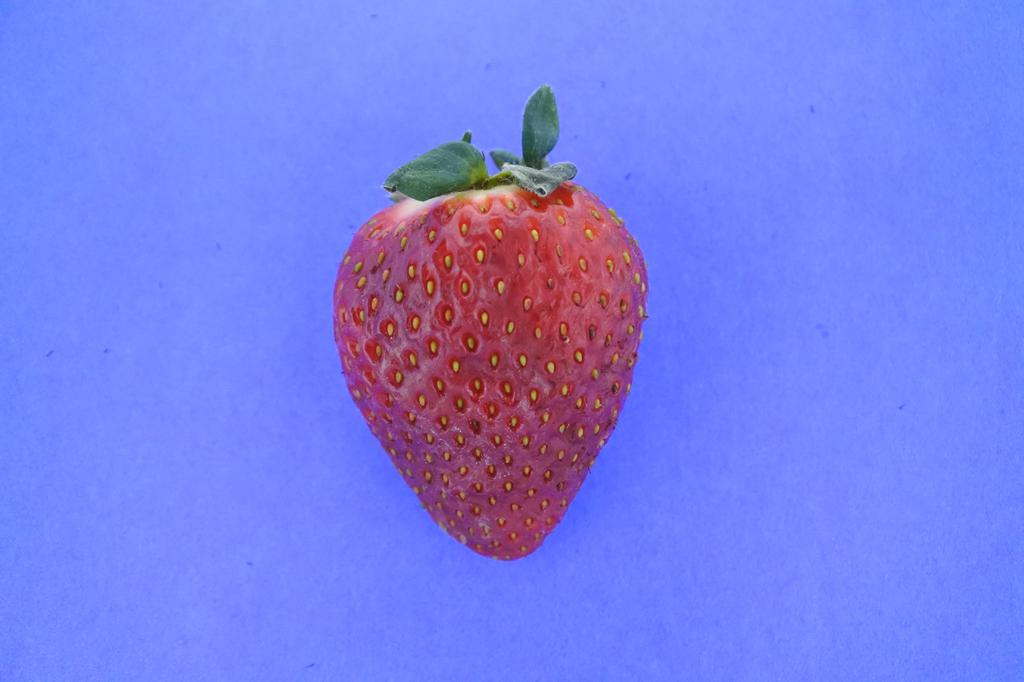red strawberry: (332, 86, 651, 565)
